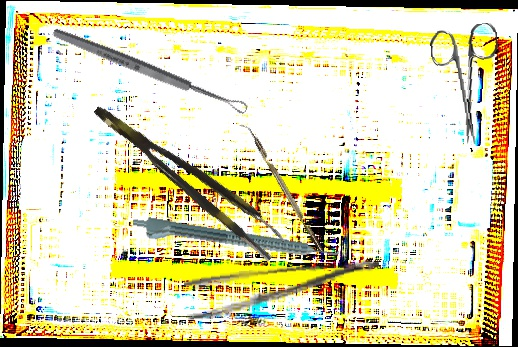Chopper: (238, 120, 324, 256)
Dressing Forceps: (183, 256, 383, 322)
Handpiece: (130, 214, 340, 271)
Iris Scissors: (428, 22, 507, 147)
Surgical Spoon: (50, 25, 250, 117)
Tissue Forceps: (90, 89, 290, 263)
